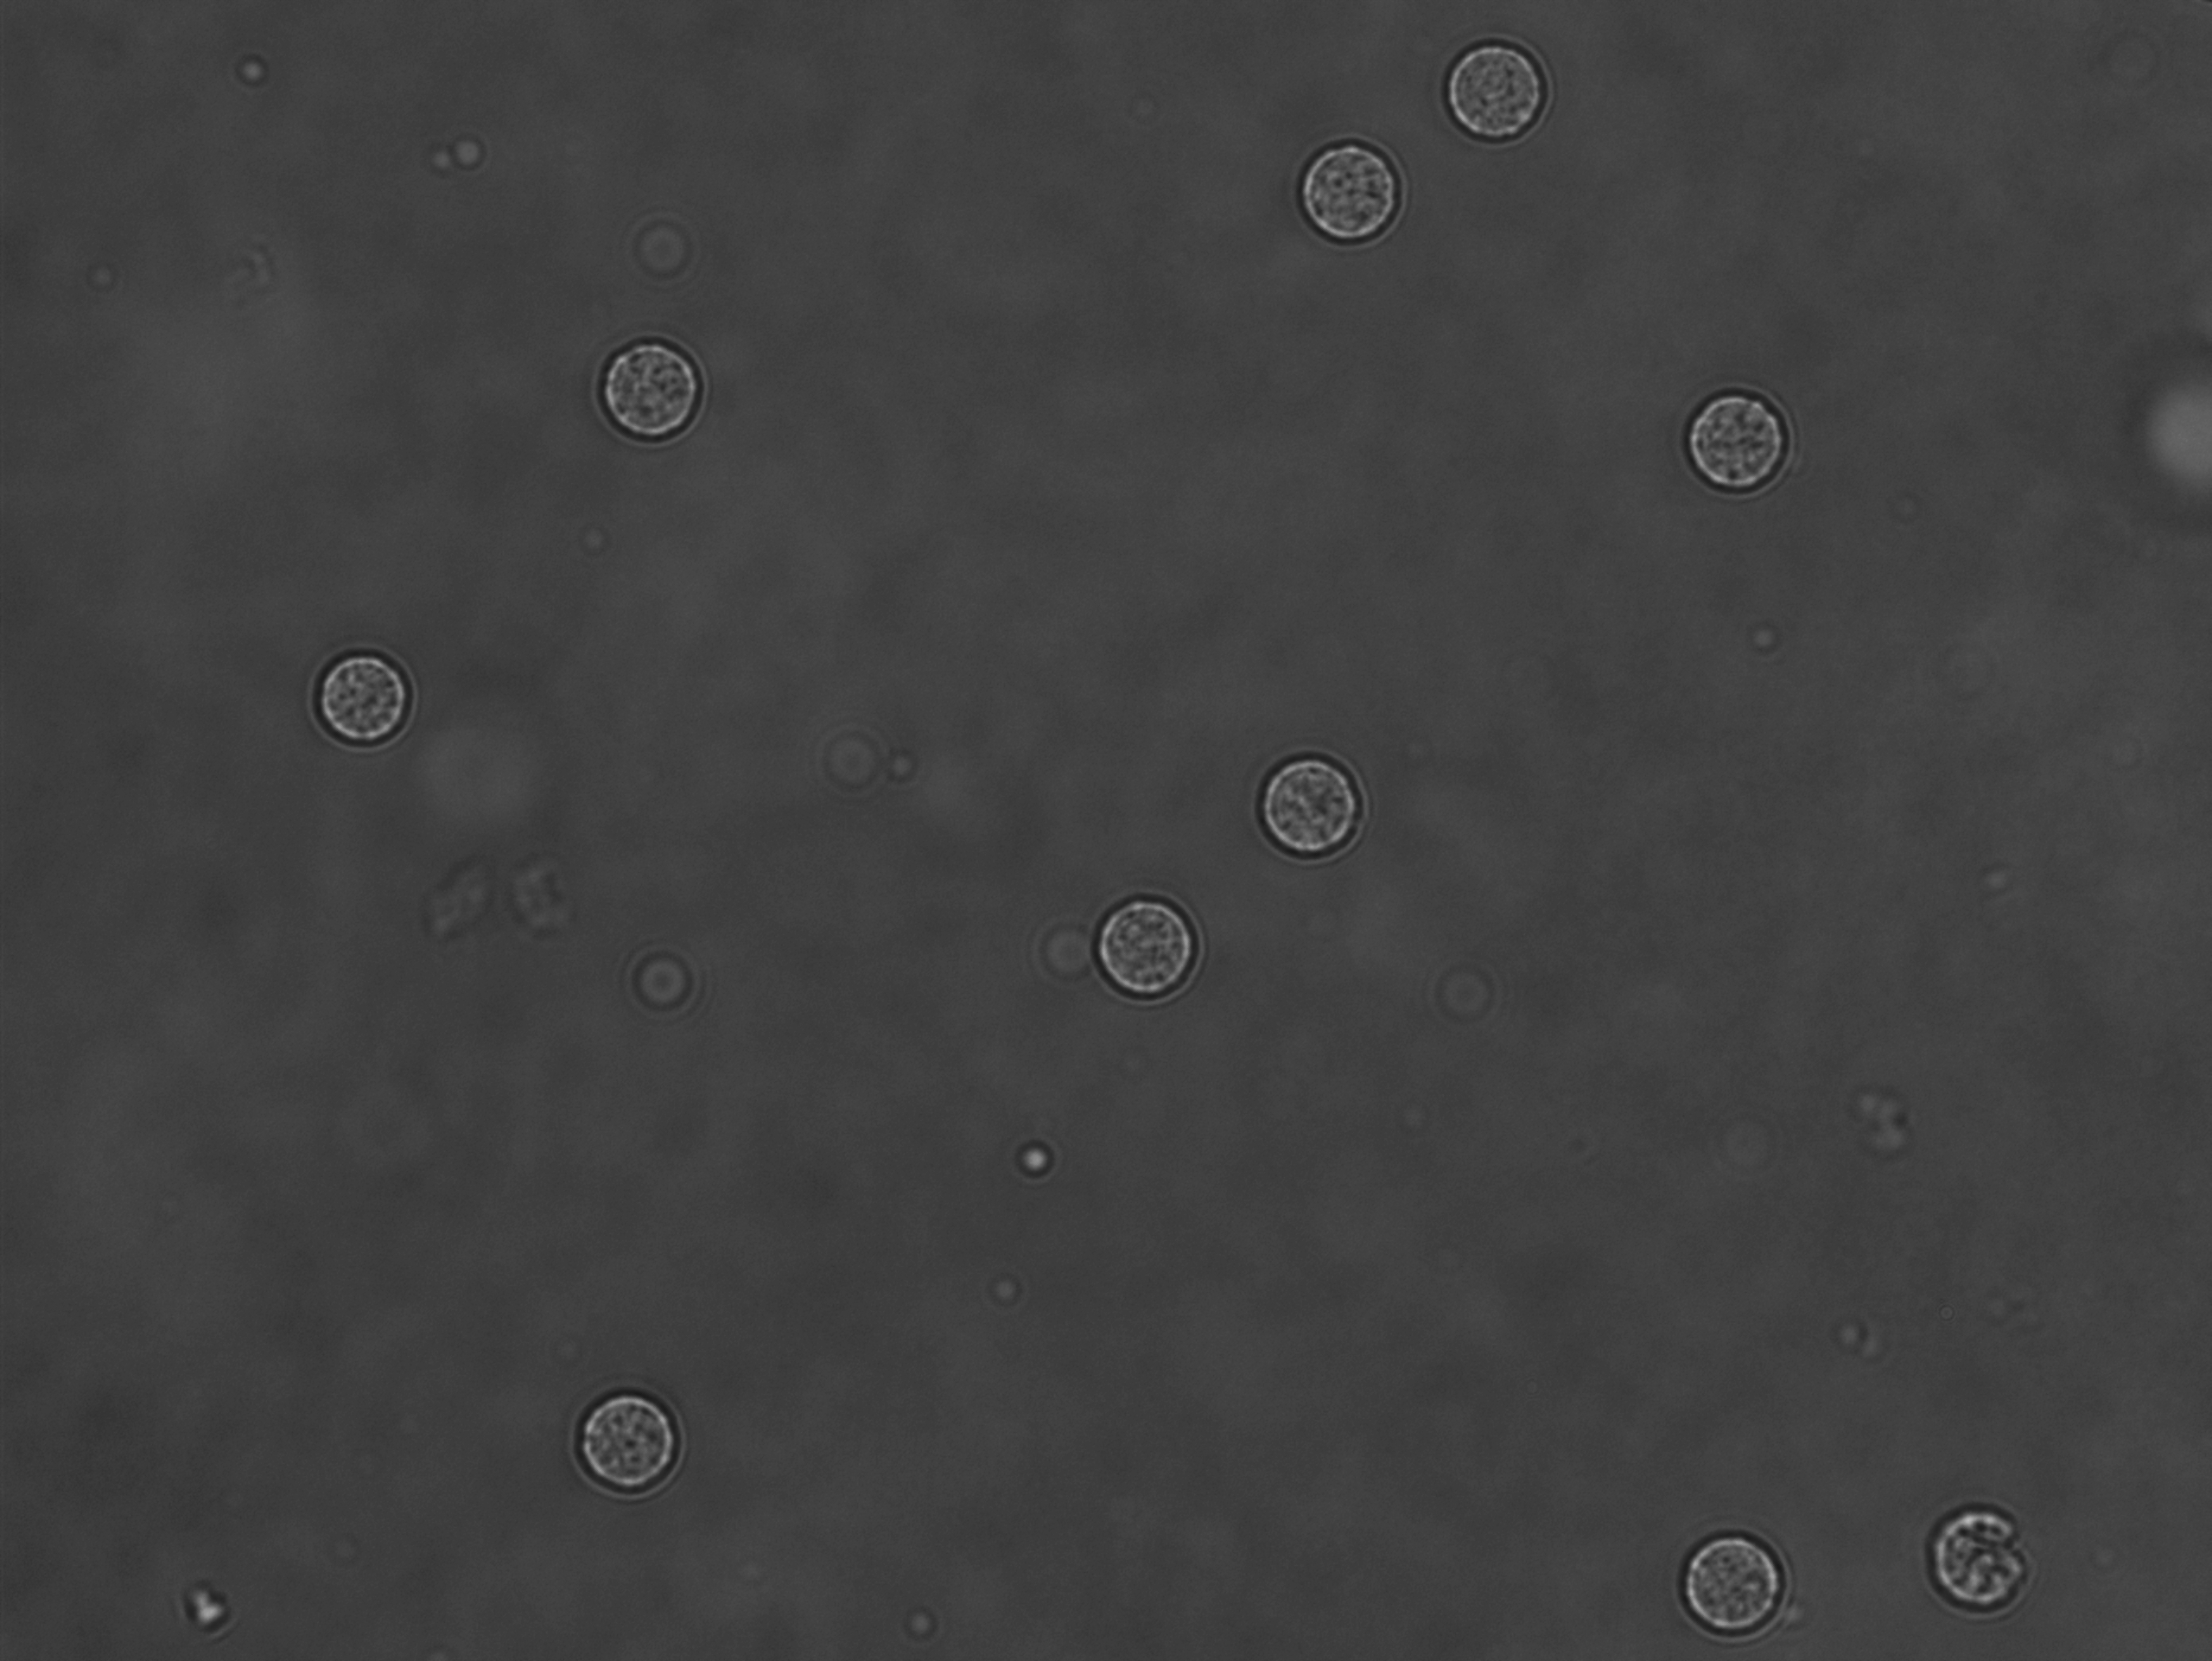depth:0: (1240, 738, 1387, 878), (1657, 1516, 1809, 1644), (583, 323, 726, 454), (1675, 373, 1804, 508), (1919, 1488, 2055, 1616), (558, 1378, 701, 1497), (1085, 872, 1214, 1003), (304, 635, 424, 759), (1293, 136, 1418, 253), (1434, 40, 1563, 147)
